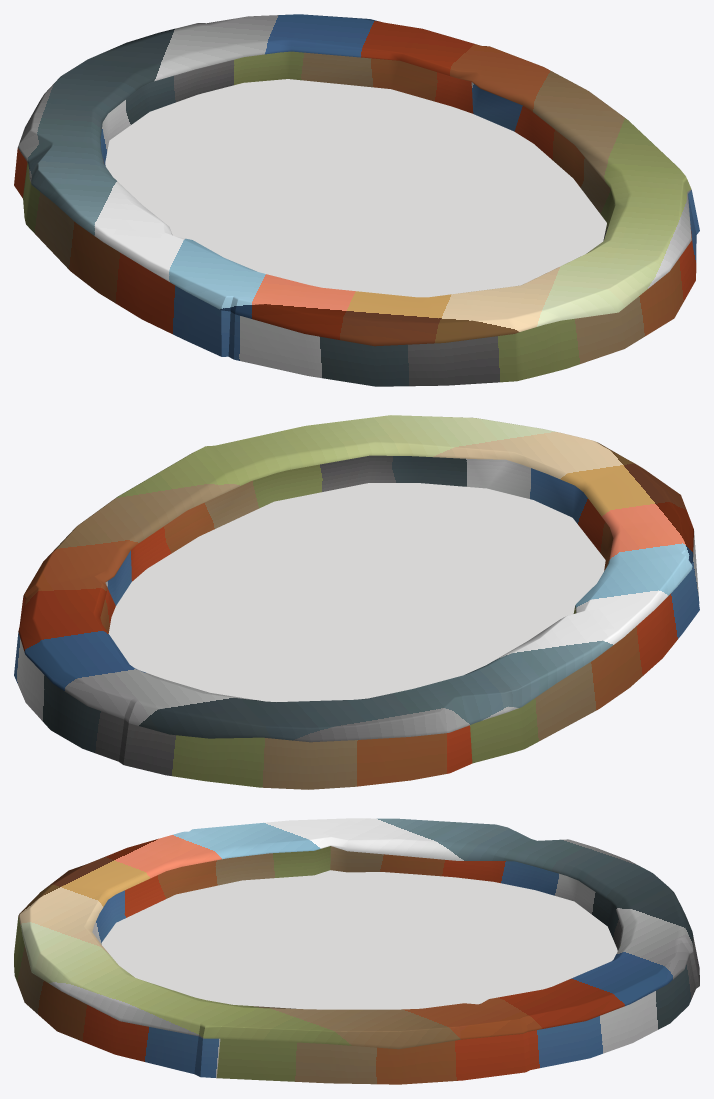
Rendered from Prop_AP32Portrait.glb.
3 views of the same model, one above another, from view 1: azimuth 30°, elevation 25°; view 2: azimuth 150°, elevation 25°; view 3: azimuth 270°, elevation 25° (orthographic). The views are drawn at different scales.
Visible parts, largest first — view 1: Prop_AP32Portrait; view 2: Prop_AP32Portrait; view 3: Prop_AP32Portrait.
Boxes of the visible parts, x1=… form: Prop_AP32Portrait: x1=14, y1=14, x2=699, y2=386; Prop_AP32Portrait: x1=14, y1=415, x2=699, y2=789; Prop_AP32Portrait: x1=14, y1=818, x2=699, y2=1084.
Size of the model in its own units: 0.7525 by 0.0752 by 0.976.
Materials: 1 (1 with a texture image).
